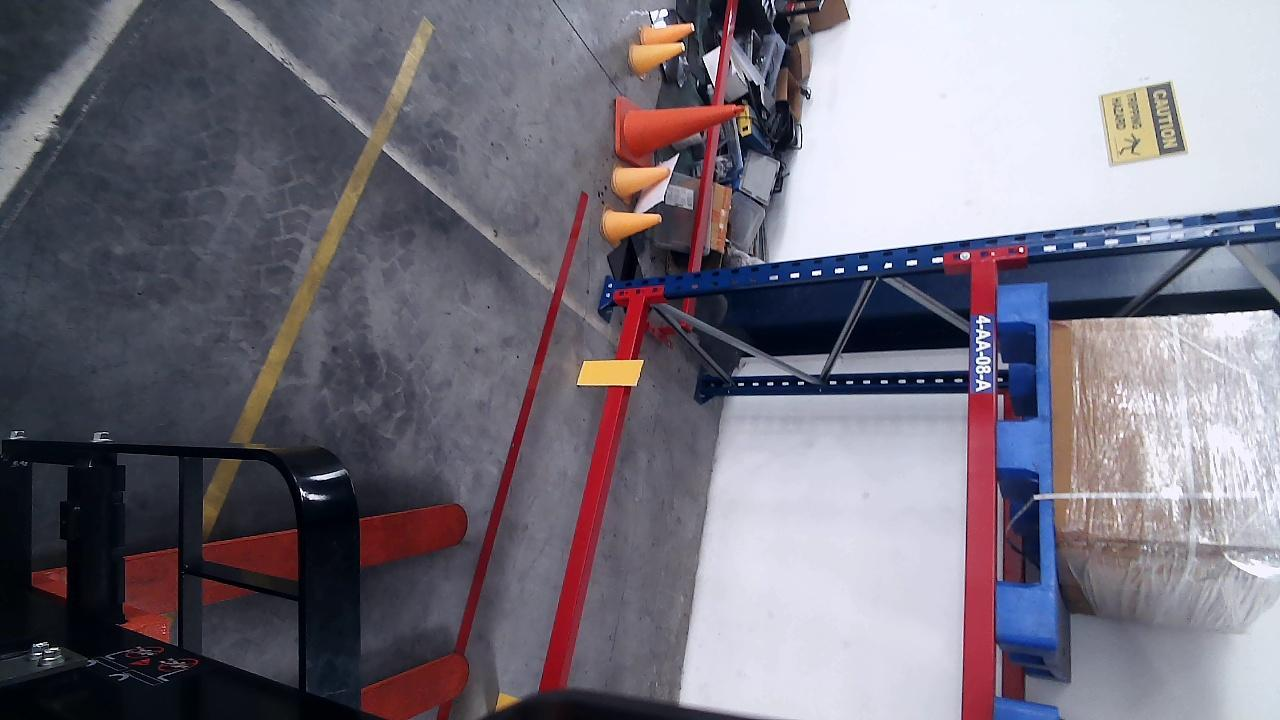h_rack: (539, 297, 642, 689), (962, 258, 995, 720)
orange_strip: (579, 359, 644, 385)
red_line: (455, 192, 591, 656)
small_pallet: (995, 282, 1052, 638)
yellow_line: (230, 16, 437, 445)
